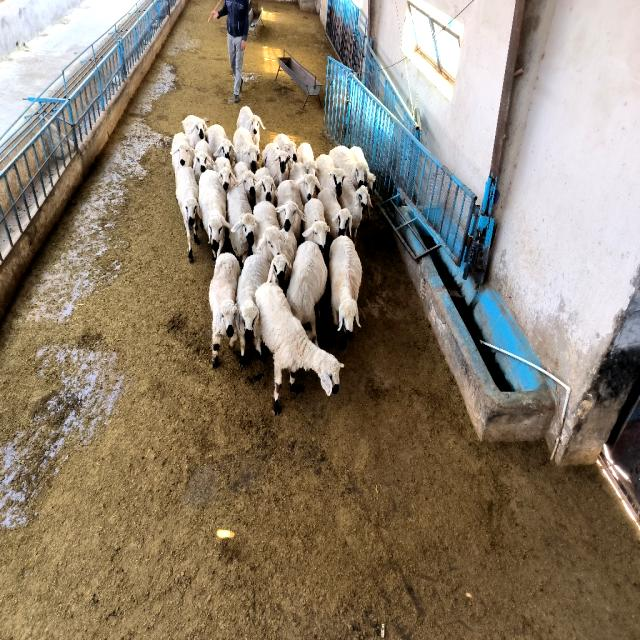sheep: (255, 282, 344, 408), (286, 240, 328, 344), (236, 253, 270, 364), (329, 235, 362, 348), (209, 253, 241, 368), (199, 170, 230, 259), (175, 167, 201, 261), (226, 185, 256, 264), (318, 187, 352, 248), (339, 177, 371, 241), (276, 180, 305, 242), (329, 145, 368, 189), (268, 230, 296, 291), (254, 200, 281, 261), (302, 198, 330, 251), (315, 155, 345, 197), (290, 163, 320, 204), (262, 143, 290, 186), (234, 127, 260, 173), (206, 125, 235, 164), (235, 162, 259, 208), (192, 140, 214, 181), (171, 133, 194, 171), (255, 167, 276, 204), (214, 157, 235, 192), (274, 133, 298, 162), (298, 143, 316, 174)
